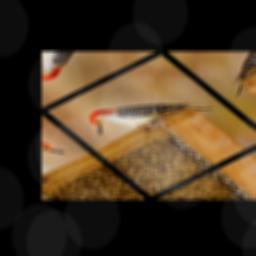Woodpecker: (78, 73, 214, 154)
